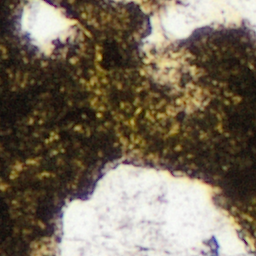cement_matrix: (0, 0, 255, 255), (180, 88, 203, 109), (205, 238, 218, 255), (148, 0, 161, 3)
gravel_crushed_stones: (36, 160, 255, 255), (113, 0, 255, 87), (18, 0, 78, 54), (181, 89, 202, 108)
